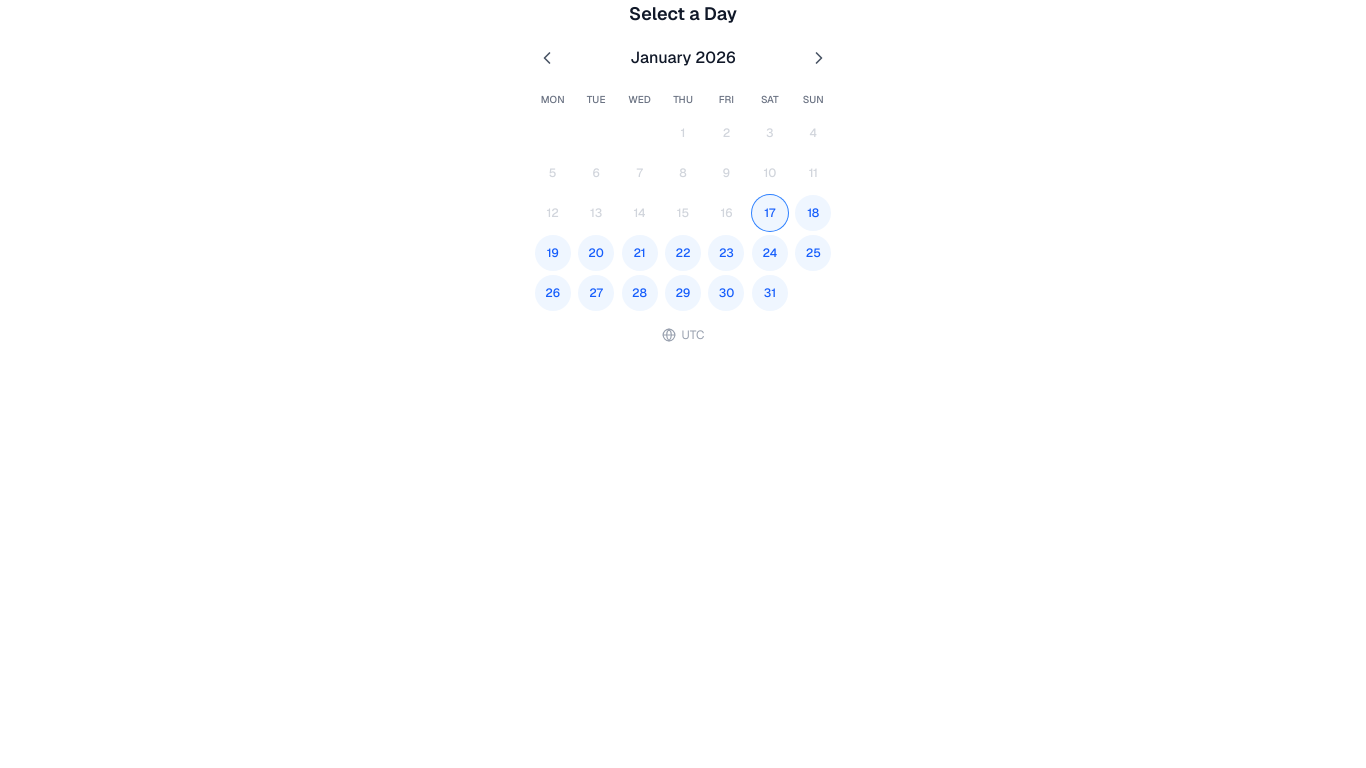
Scenario: BookingForm › Details Form (Step 3) › should display booking summary
What coordinates should you click on to do the following:
click the button "31"
I would click on:
 (770, 293)
Its box is x1=752 y1=275 x2=788 y2=311.
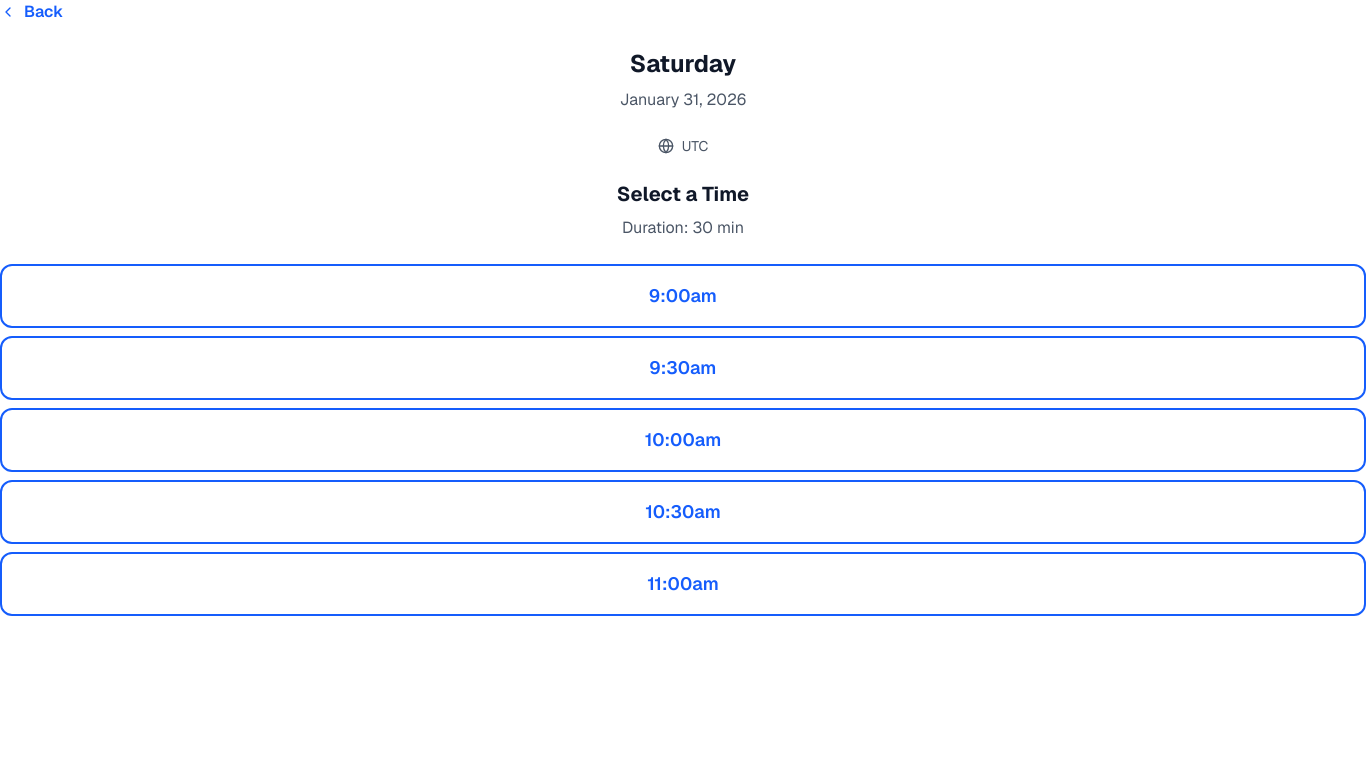
Check: the button "9:00am" is shown
What coordinates should you click on to do the following:
click the button "9:00am"
I would click on:
 (683, 296)
Its box is x1=0 y1=264 x2=1365 y2=328.
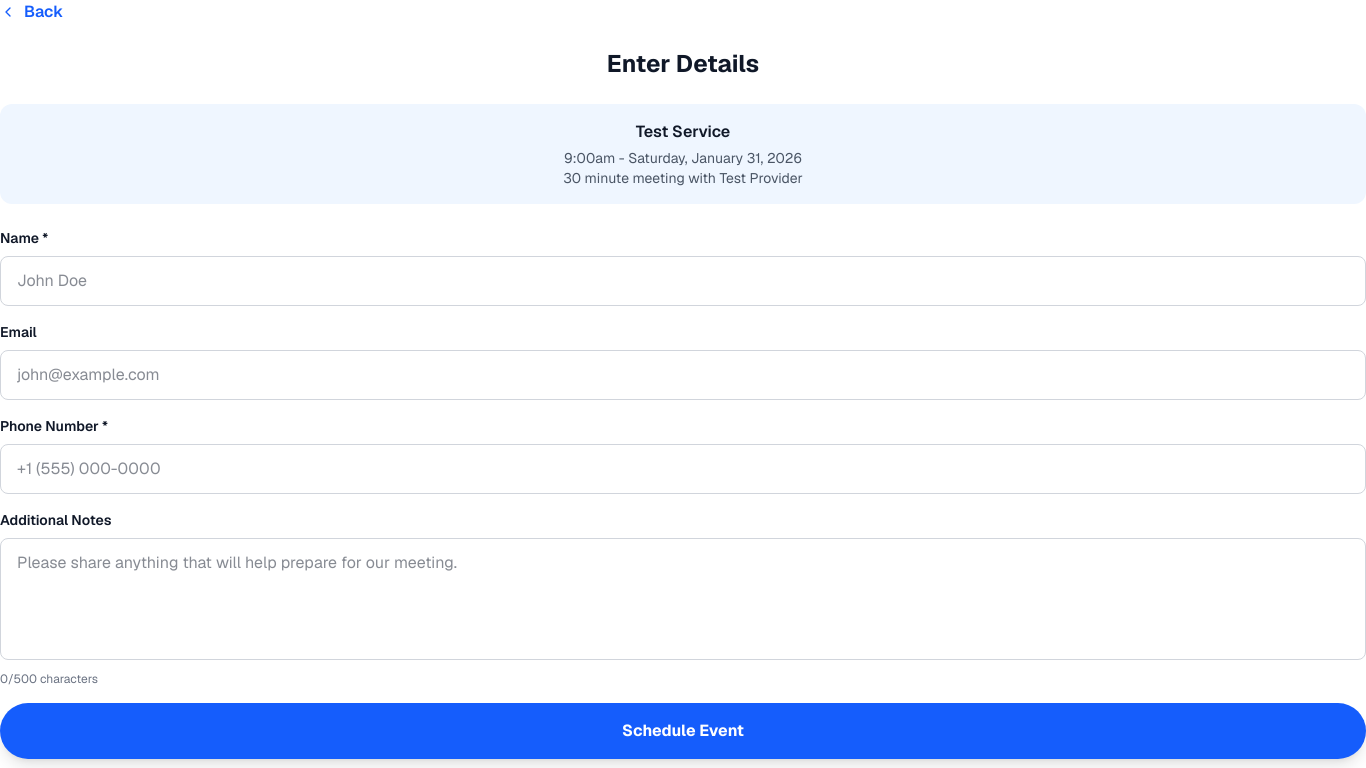
Check: the heading "Enter Details" is shown, box x1=607 y1=48 x2=759 y2=79
Check: the text "Test Service" is shown, box x1=636 y1=121 x2=730 y2=142
Check: the text "30 minute meeting with Test Provider" is shown, box x1=563 y1=169 x2=803 y2=187
